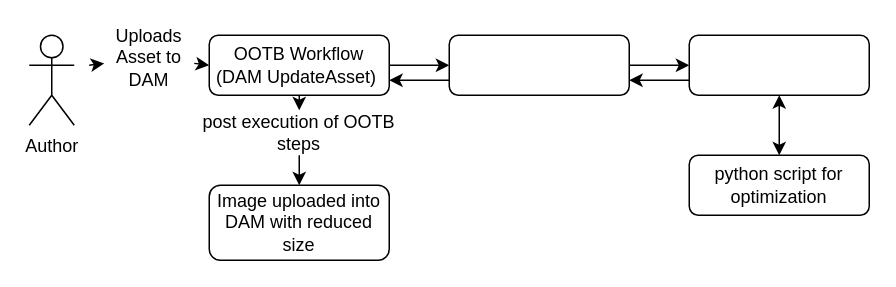
Image size: 896x287. Some labels were removed from this diagram. Here are the shapes that lost their labels. From the top down, the box of each, then its label:
(448, 34, 629, 95): custom process step
(688, 34, 869, 95): python AEM service
